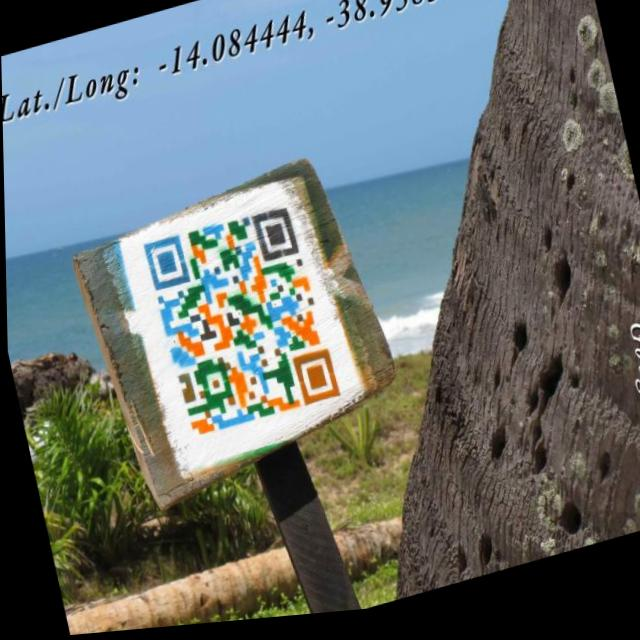qrcode: (143, 204, 340, 445)
